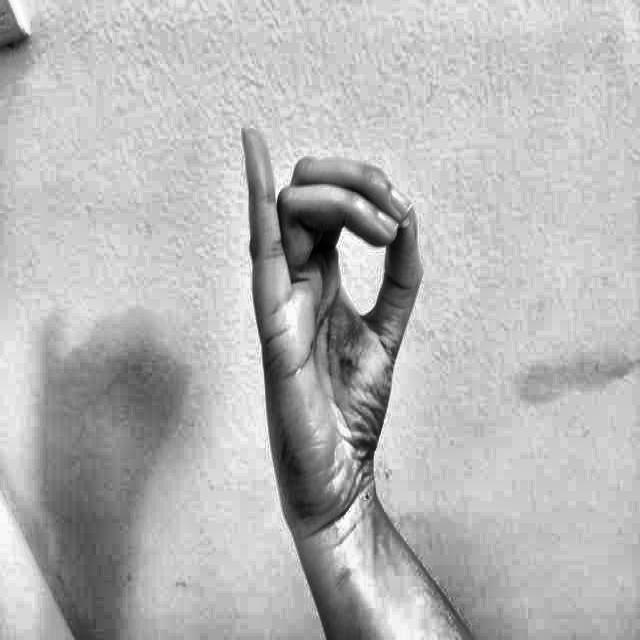Ou: (214, 98, 445, 536)
